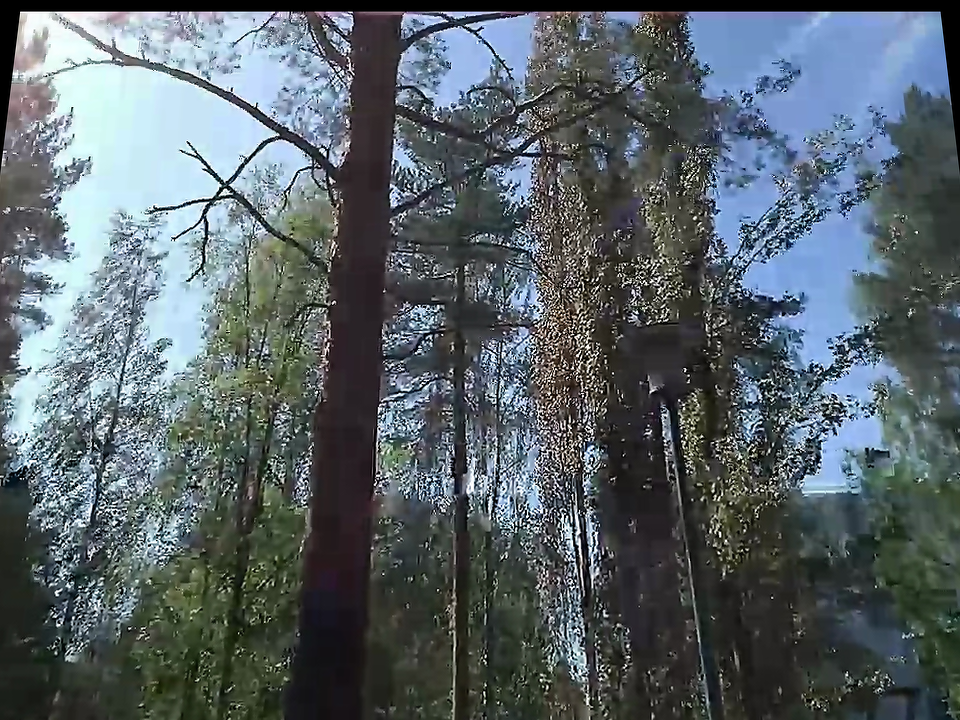branch: (388, 224, 523, 260), (423, 314, 534, 344), (277, 294, 332, 330), (382, 329, 431, 365)
trunk: (320, 140, 396, 632), (299, 373, 385, 641), (448, 215, 474, 641)
